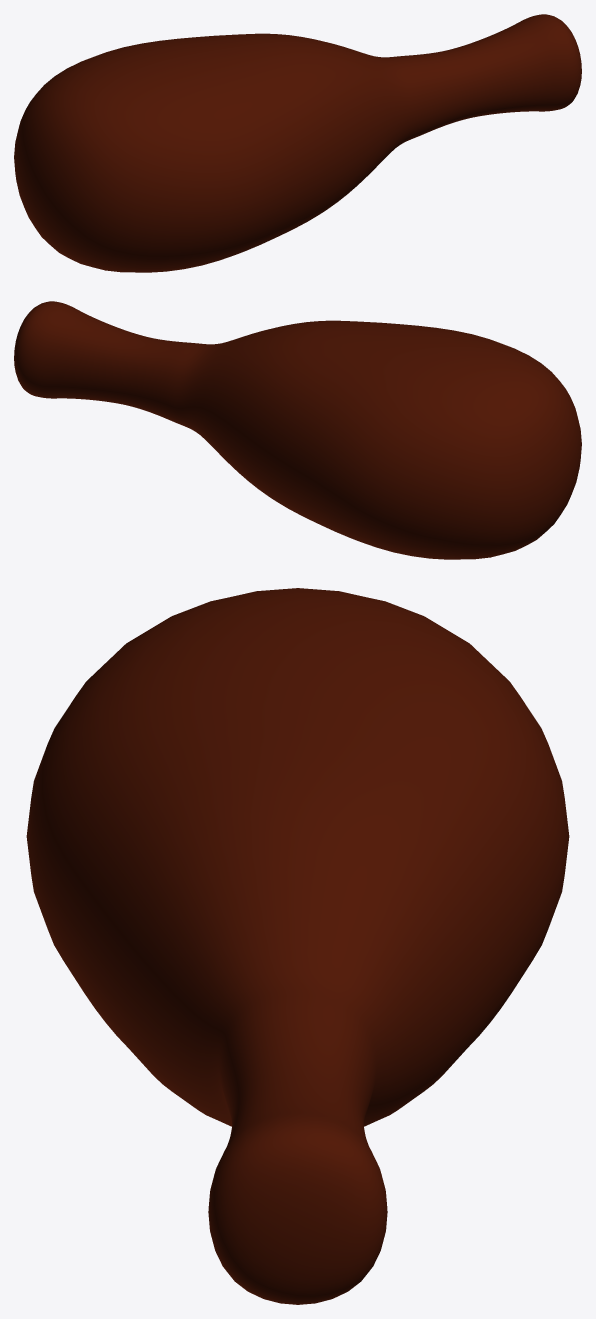
The model's file is meat_beta.fbx.
3 views of the same model, one above another, from view 1: azimuth 30°, elevation 25°; view 2: azimuth 150°, elevation 25°; view 3: azimuth 270°, elevation 25° (orthographic). The views are drawn at different scales.
Visible parts, largest first — view 1: Box002; view 2: Box002; view 3: Box002.
Part boxes in pixels (bbox=[...]): Box002: bbox=[14, 14, 581, 272]; Box002: bbox=[14, 301, 581, 559]; Box002: bbox=[26, 588, 569, 1304].
Bounding box in the file's own units: 194 × 65.77 × 85.09.
